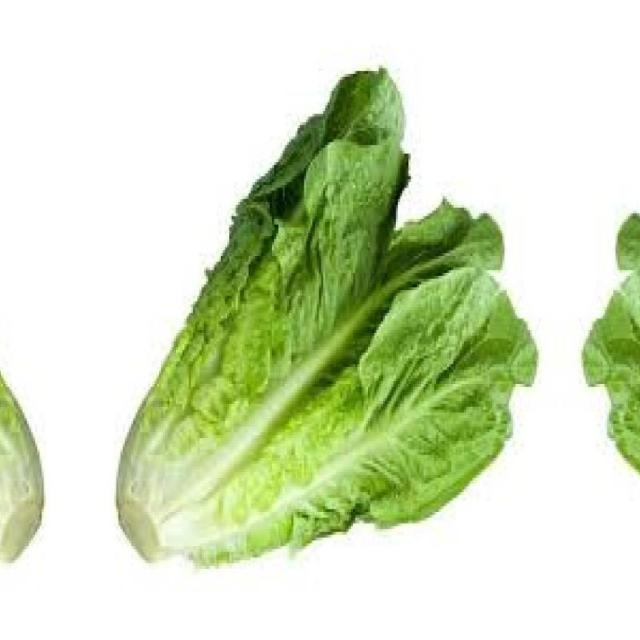healthy: (117, 67, 537, 565), (583, 67, 640, 565), (0, 67, 43, 565)
